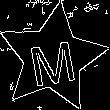M_N: (25, 29, 80, 87)
